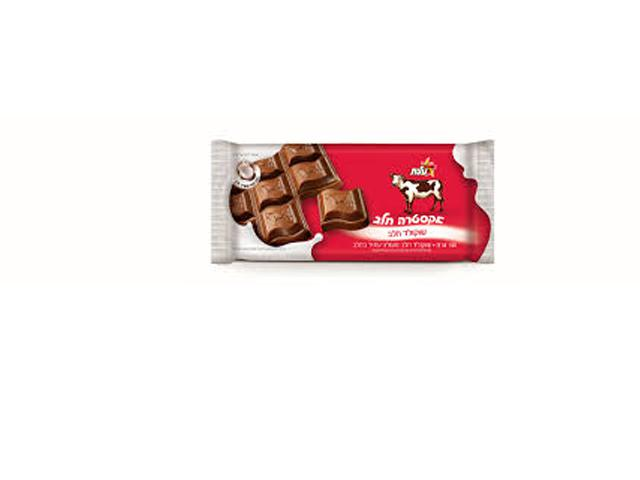chocolate: (203, 130, 500, 286)
